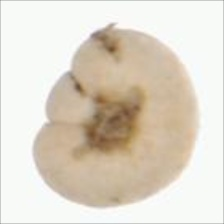L5: (72, 85, 147, 162), (42, 67, 93, 127)
L6: (26, 21, 202, 210)
